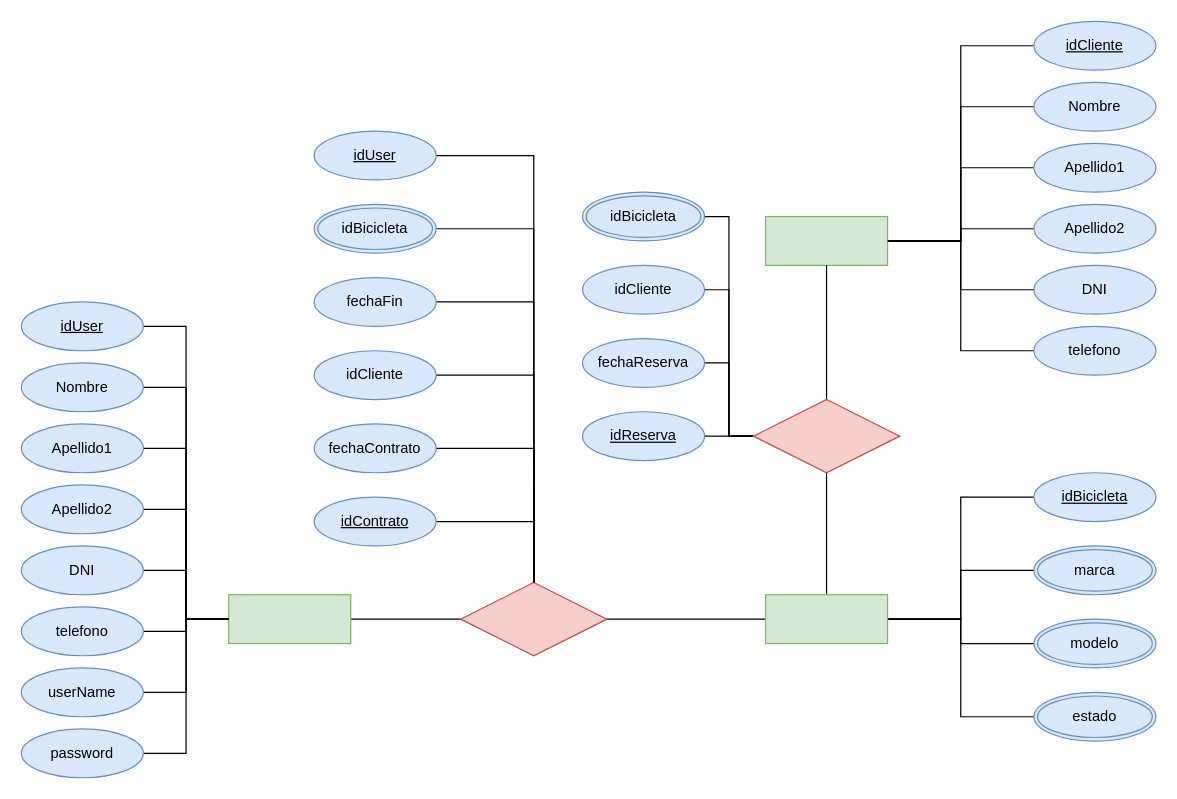
The diagram is 1177 pixels wide and 799 high, and some of its shapes have lost their labels. Each missing label, with the centre of its shape:
"Bicicletas" belongs at [826,619].
"Clientes" belongs at [826,240].
"Contratan" belongs at [533,618].
"reservan" belongs at [826,435].
"Usuarios" belongs at [289,619].
